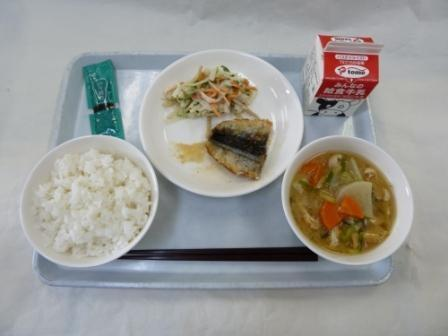Fish: (196, 108, 285, 188)
Milk: (294, 26, 392, 125)
Rice: (14, 139, 171, 265)
Salad: (165, 60, 260, 116)
Soups: (287, 138, 412, 262)
